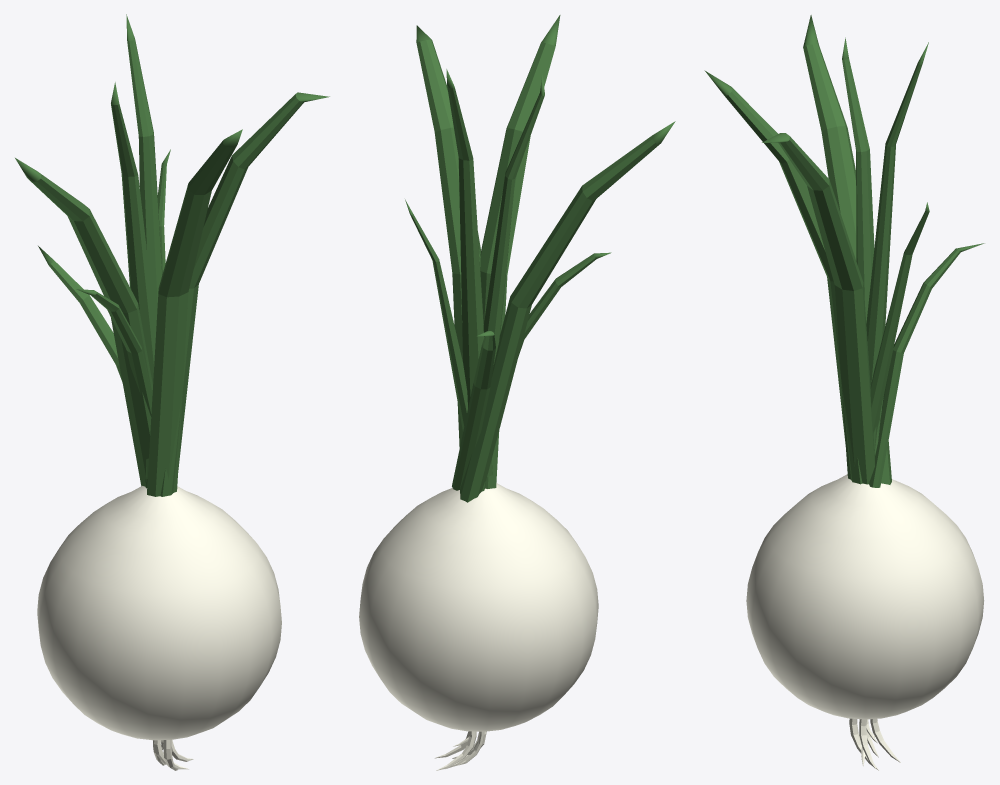
The model's file is Onion.fbx.
3 views of the same model, side by side, from view 1: azimuth 30°, elevation 25°; view 2: azimuth 150°, elevation 25°; view 3: azimuth 270°, elevation 25° (orthographic). The views are drawn at different scales.
Visible parts, largest first — view 1: Bulb; view 2: Bulb; view 3: Bulb.
Boxes of the visible parts, box(x1,y1,x2,y2) form: Bulb: box(15, 14, 329, 770); Bulb: box(359, 15, 675, 770); Bulb: box(704, 15, 984, 770).
Bounding box in the file's own units: 2.72 × 6.65 × 2.37.
